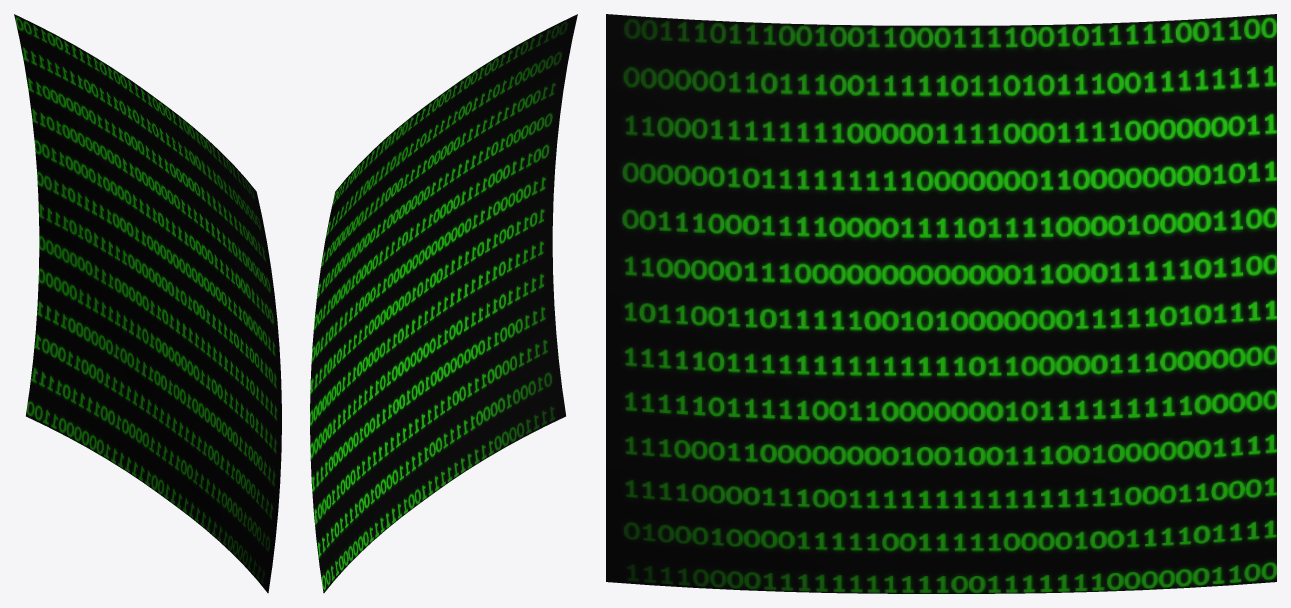
Rendered from tela.glb.
3 views of the same model, side by side, from view 1: azimuth 30°, elevation 25°; view 2: azimuth 150°, elevation 25°; view 3: azimuth 270°, elevation 25° (orthographic). The views are drawn at different scales.
Visible parts, largest first — view 1: diannao; view 2: diannao; view 3: diannao.
Part boxes in pixels (left/top/right/bottom): diannao: left=14, top=14, right=281, bottom=593; diannao: left=310, top=14, right=577, bottom=593; diannao: left=606, top=14, right=1276, bottom=593.
Size of the model in its own units: 0.1481 by 1.33 by 1.45.
1 material, 1 textured.
